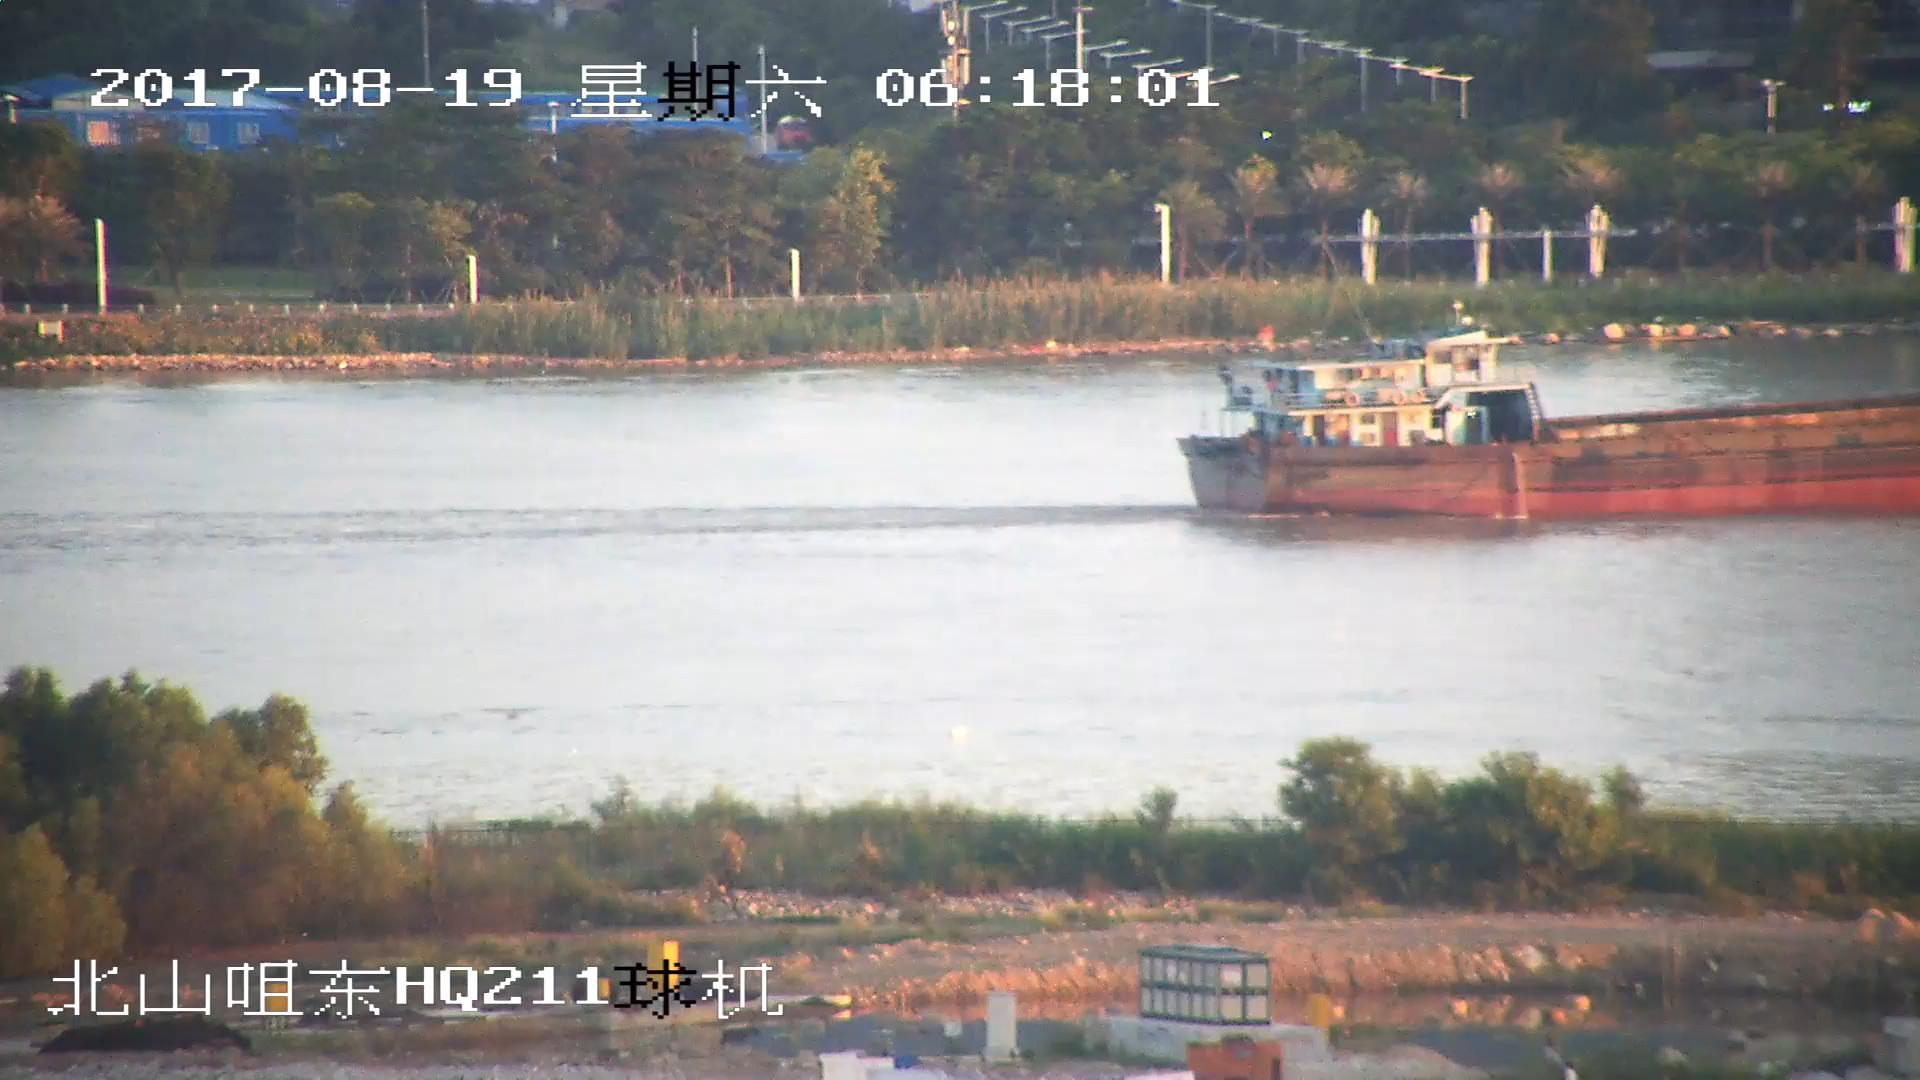Ship: (1167, 338, 1920, 526)
